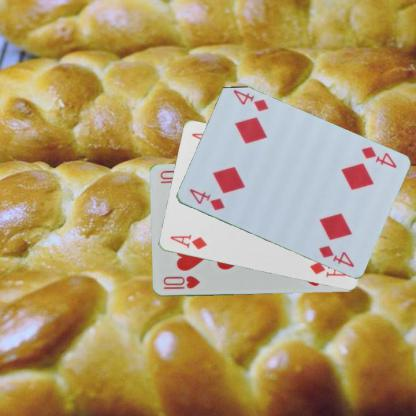10h: (160, 273, 200, 291)
4d: (186, 186, 226, 212), (358, 144, 398, 170)
Ad: (167, 232, 208, 251)
